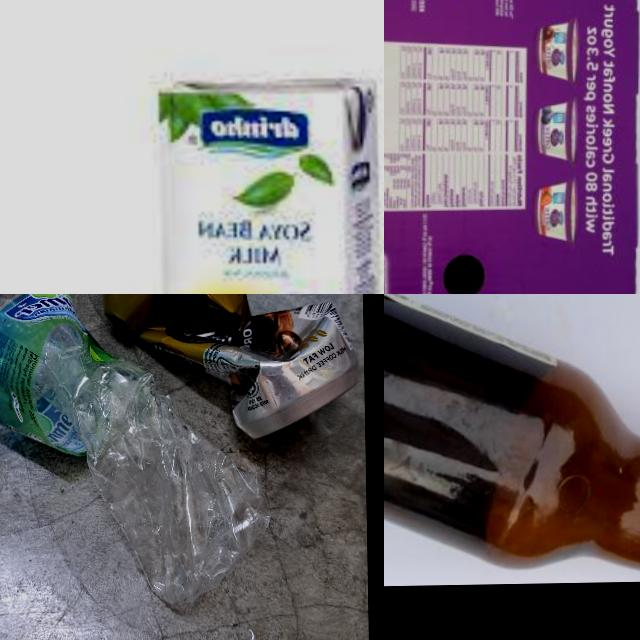caixinha: (152, 66, 381, 294)
garrafa de vidro: (384, 294, 640, 589)
garrafa plástica: (0, 294, 273, 608)
lata: (99, 294, 359, 442)
papelão: (384, 0, 640, 294)
